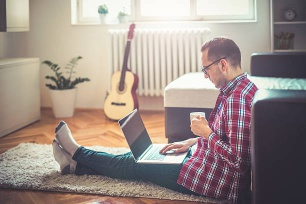male: (196, 35, 238, 94)
